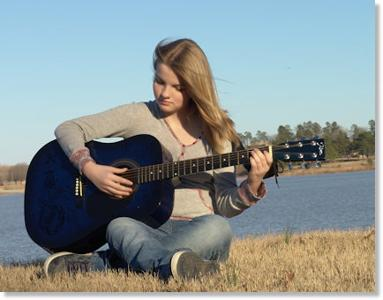person: (42, 39, 274, 285)
